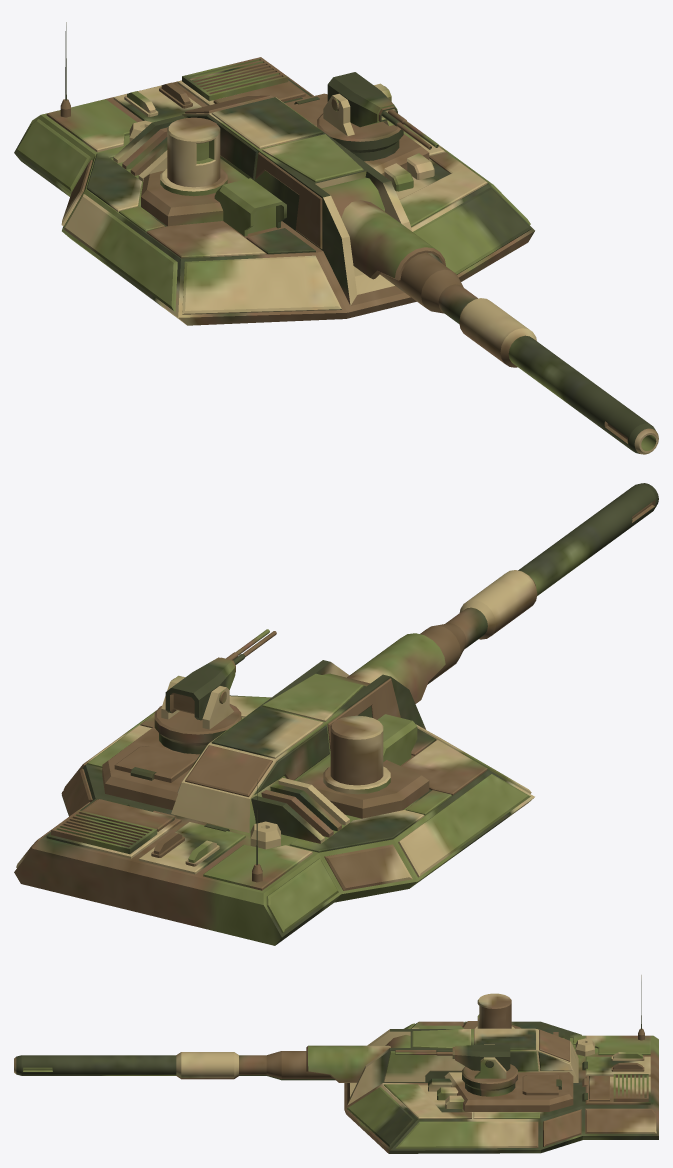
The model's file is TankTurret.fbx.
The picture shows the model from 3 angles, top to bottom: view 1: azimuth 30°, elevation 25°; view 2: azimuth 150°, elevation 25°; view 3: azimuth 270°, elevation 25°; orthographic projection. The views are drawn at different scales.
Parts seen in each view (by area): view 1: TankTop; view 2: TankTop; view 3: TankTop.
Part boxes in pixels (x1,y1,x2,y2): TankTop: (14, 22, 658, 454); TankTop: (14, 483, 658, 945); TankTop: (14, 975, 658, 1153).
Size of the model in its own units: 0.6521 by 0.2786 by 1.58.
Materials: 1 (1 with a texture image).
